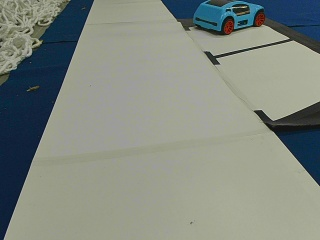car: (192, 2, 265, 34)
